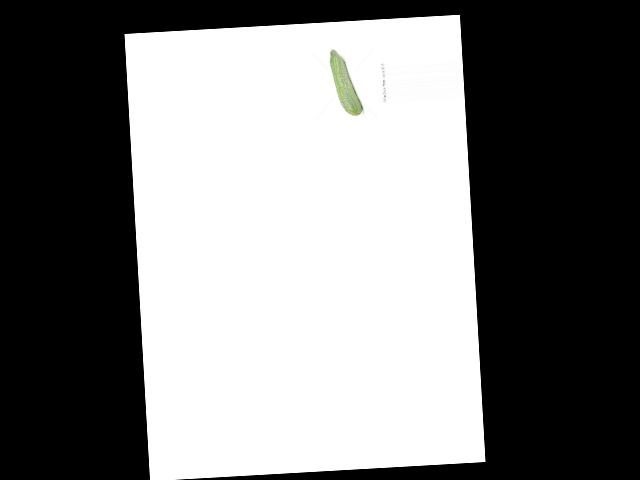cucumber: (329, 47, 362, 116)
